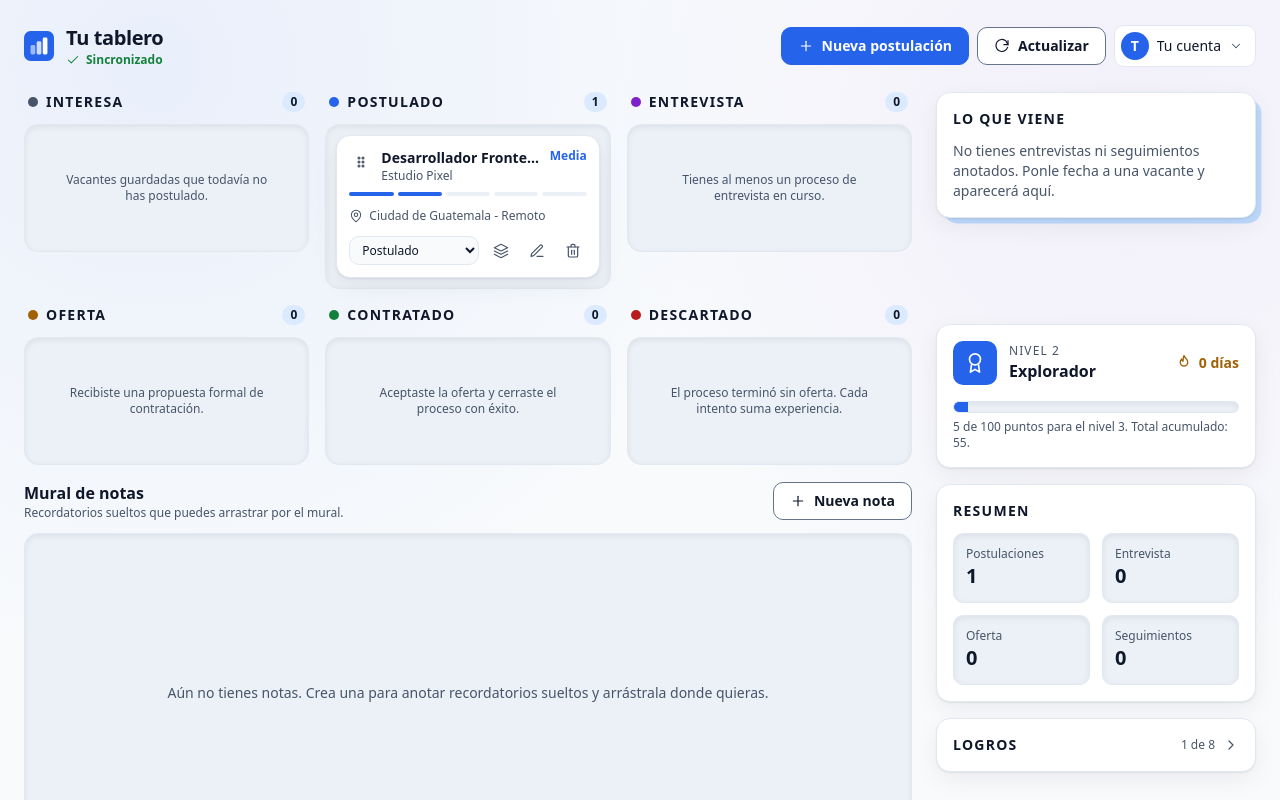
Scenario: BoardWorkspace (integracion) › elimina una postulación tras confirmar el dialogo
Expected: the heading "Desarrollador Frontend" is shown, [381,148,542,168]
Click the button named "Eliminar Desarrollador Frontend": point(573, 250) [559,236,587,264]
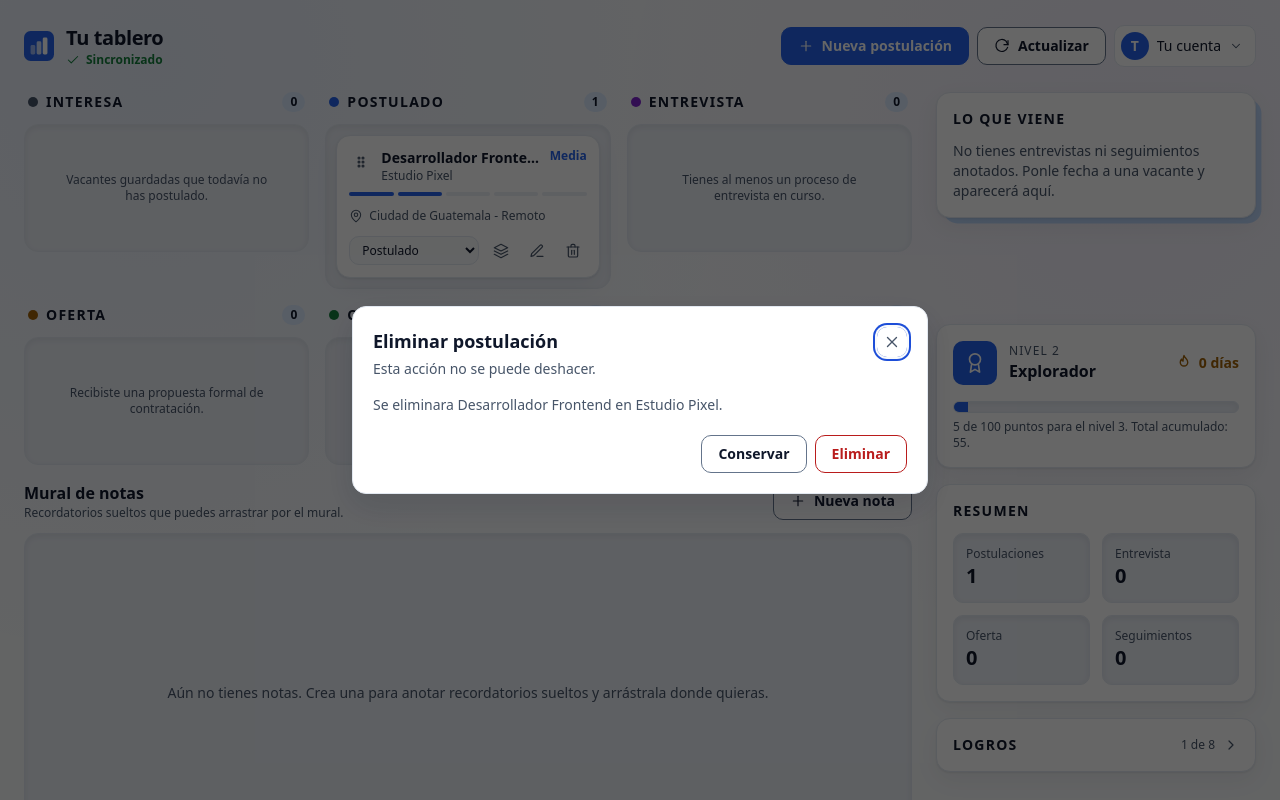
Click the button "Eliminar": point(861, 454) [815,435,907,473]
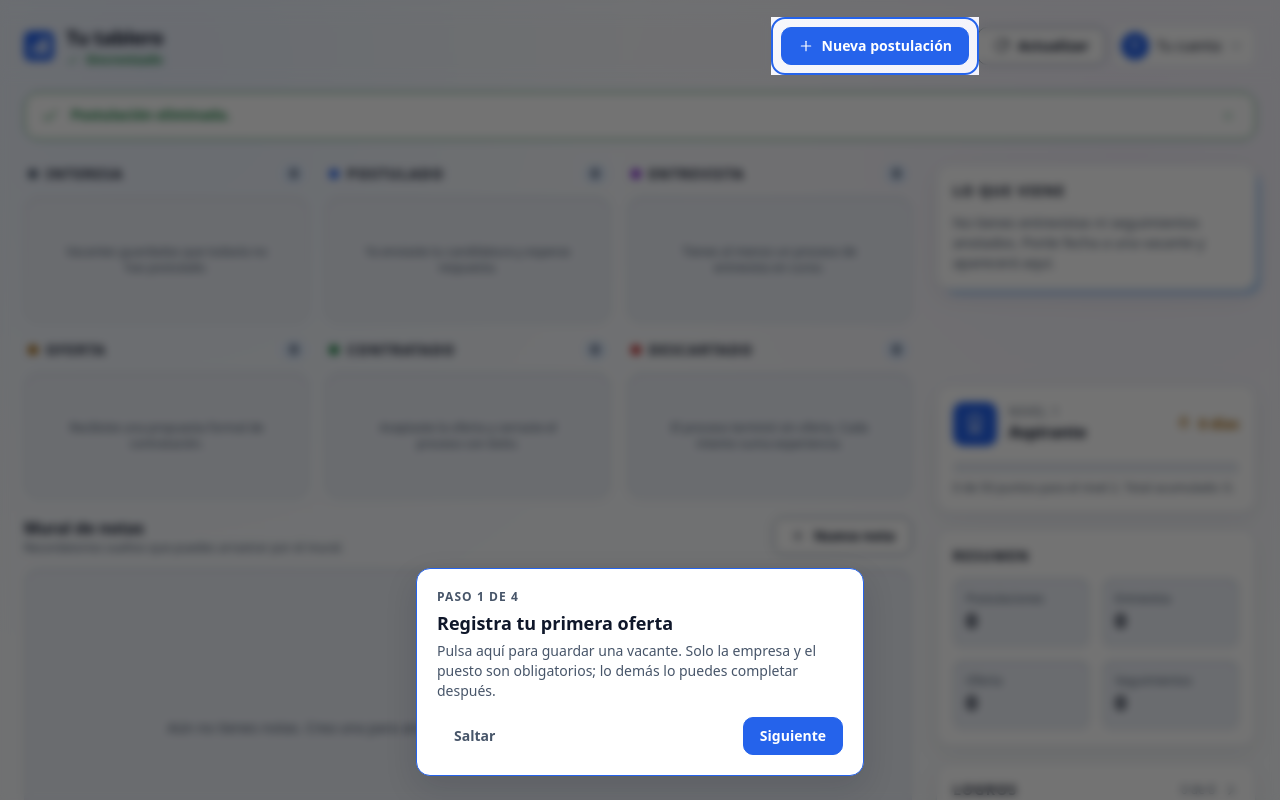
Result: the link "Desarrollador Frontend" is gone
